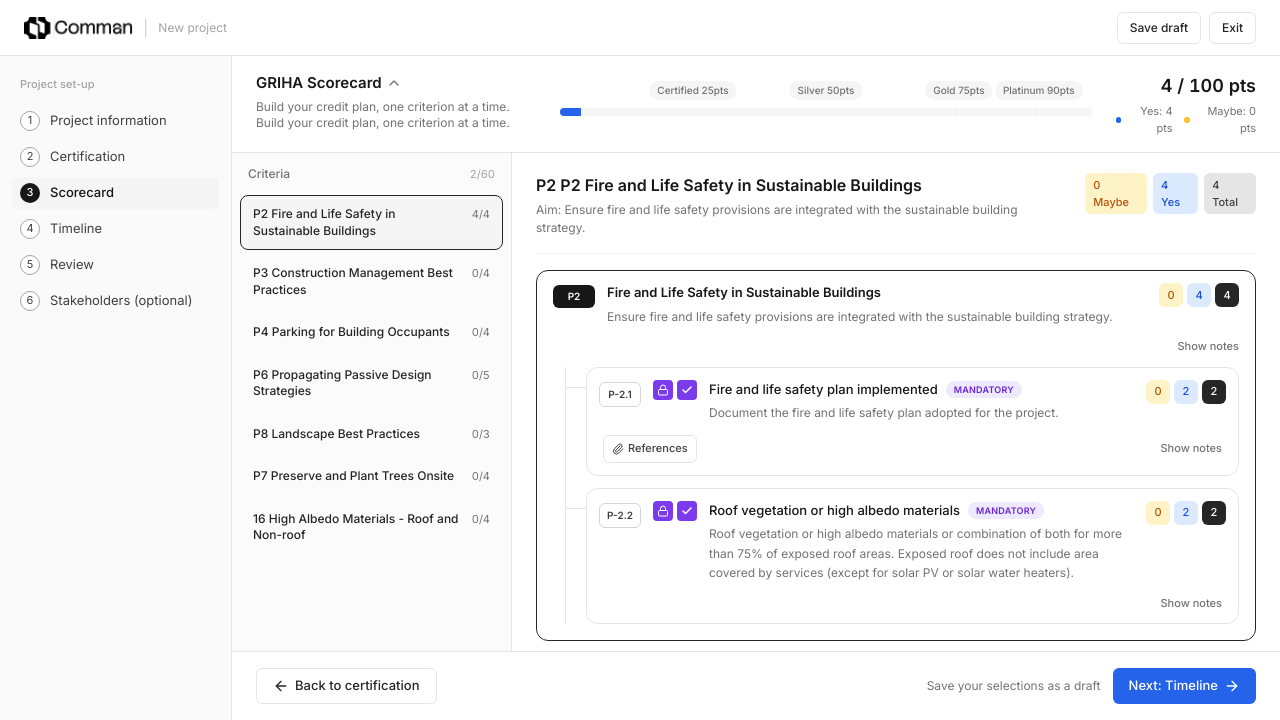
Scenario: NewProjectPage › reaches the timeline step from the scorecard next button
Step 1. Click the button "Next: Timeline" → (1184, 686), box [1112,668,1256,704]
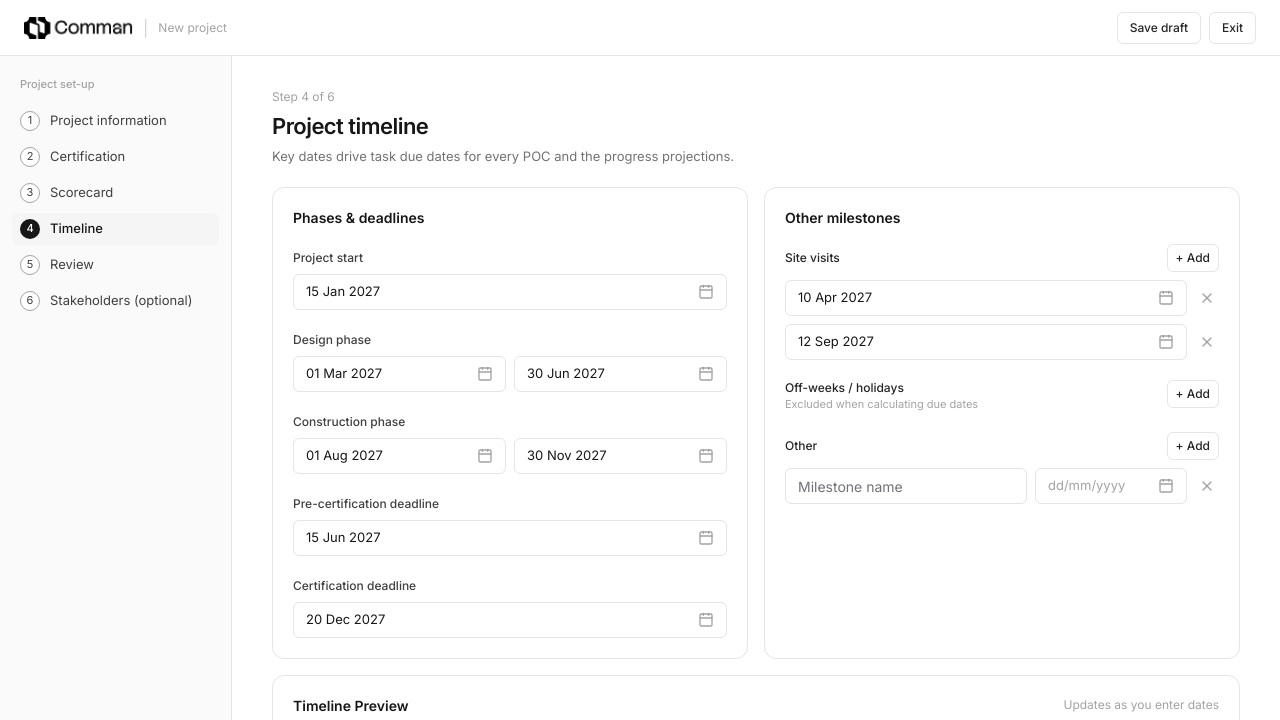
Now the text "Step 4 of 6" is shown, box [272,89,335,104]
